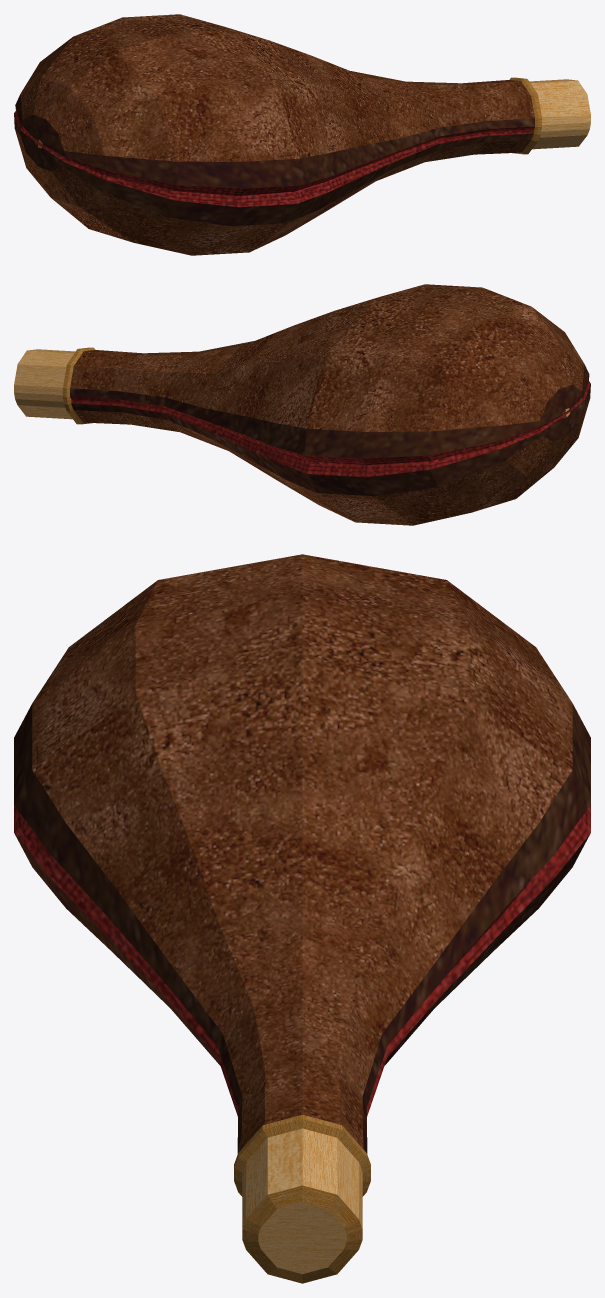
Rendered from WorldItem_SmallWaterskin.fbx.
3 views of the same model, one above another, from view 1: azimuth 30°, elevation 25°; view 2: azimuth 150°, elevation 25°; view 3: azimuth 270°, elevation 25° (orthographic). The views are drawn at different scales.
Parts seen in each view (by area): view 1: ZomboidSmallWaterskin; view 2: ZomboidSmallWaterskin; view 3: ZomboidSmallWaterskin.
Part boxes in pixels (x1,y1,x2,y2): ZomboidSmallWaterskin: (14,14,590,255); ZomboidSmallWaterskin: (14,284,590,525); ZomboidSmallWaterskin: (14,554,590,1283).
Size of the model in its own units: 0.1651 by 0.0608 by 0.0885.
